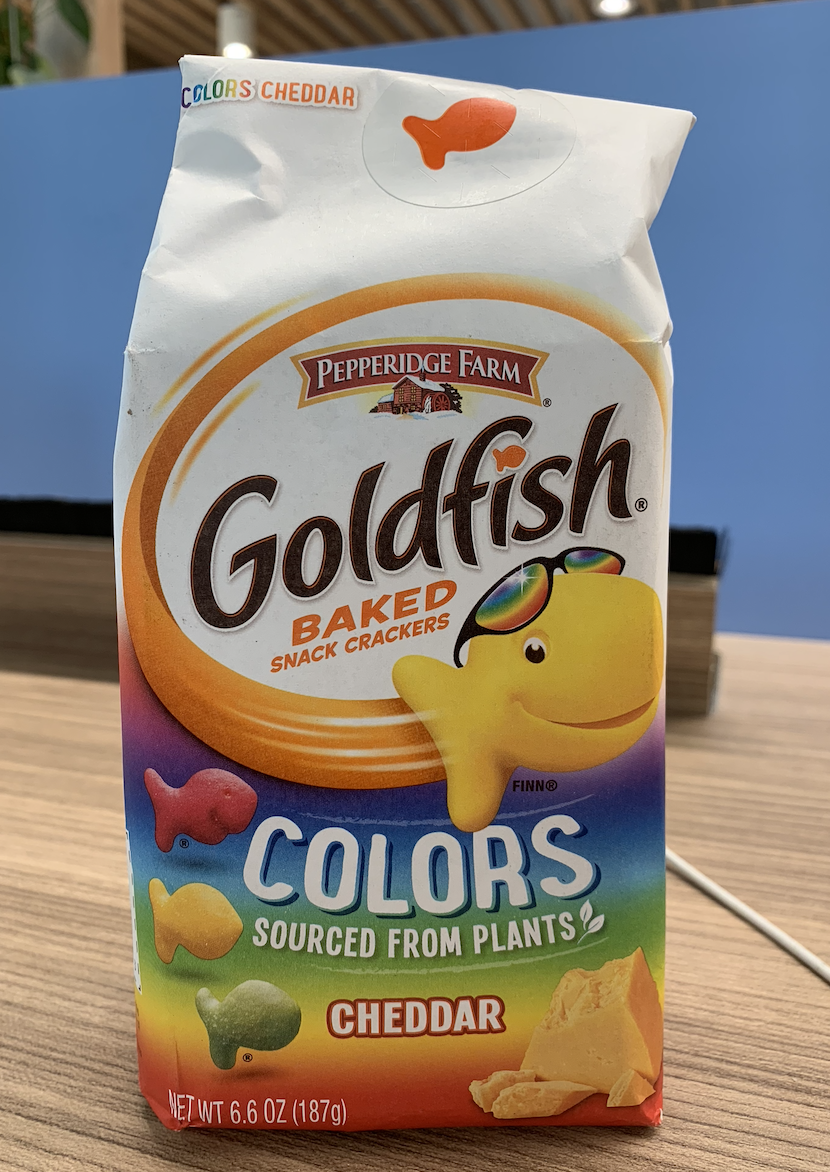crackers_100g-199g: (163, 203, 661, 1129)
